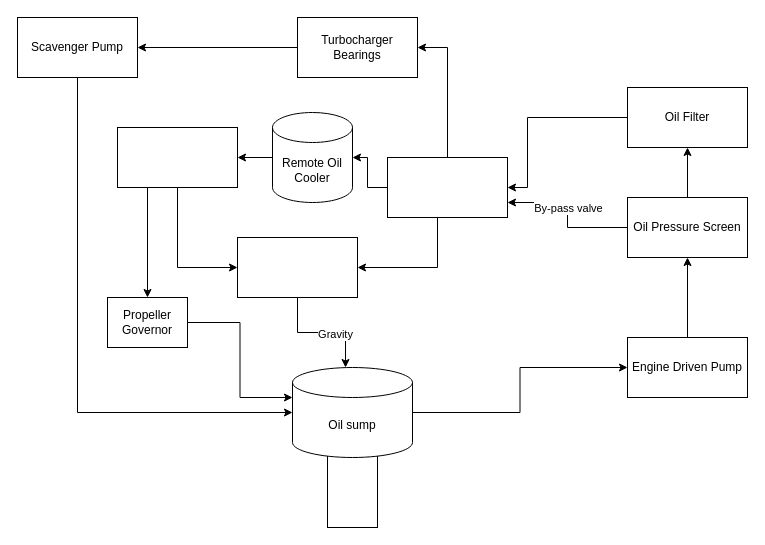
Image size: 765x545. Some labels were removed from this diagram. The shapes that lost their labels are listed below. From the top down, each one's centre as x and y in pixels, then its label:
At point (177, 157): "Left Oil Gallery".
At point (447, 187): "Right Oil Gallery".
At point (297, 267): "Engine".
At point (352, 487): "Quick drain".
